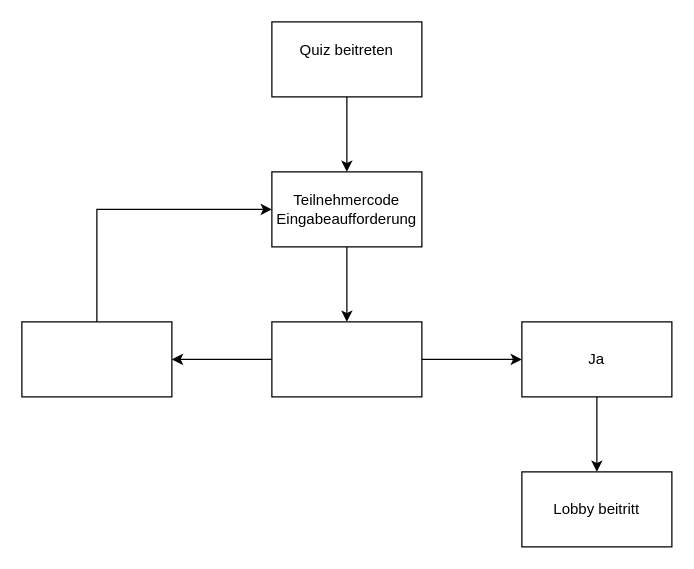
Some shapes in this 694 by 569 pixel diagram are drawn without their labels. Each missing label, with the centre of its shape:
Nein: the point at 96,359
Teilnehmercode gültig?: the point at 346,359
